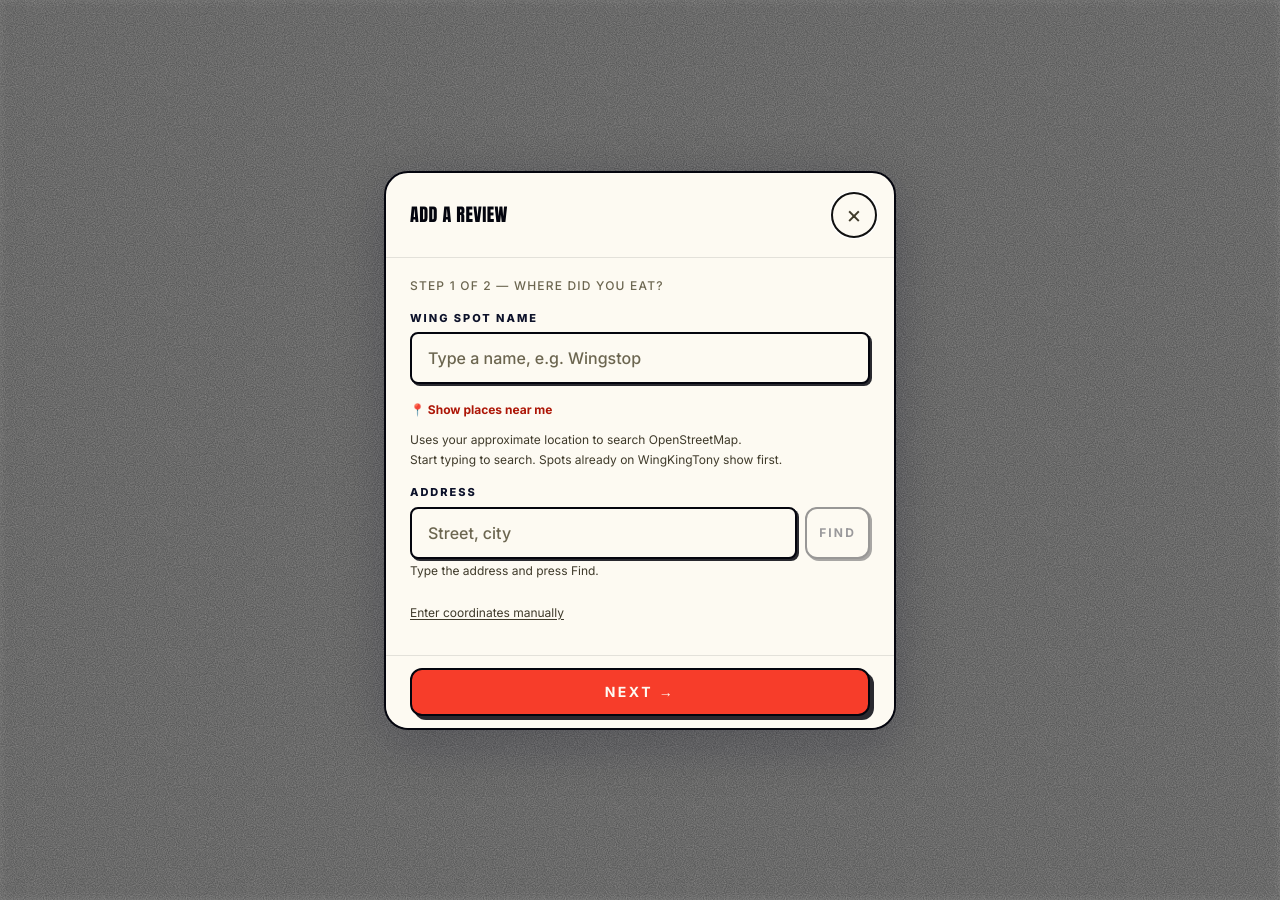
Test: ReviewFormModal — validation stays visible (m1) › clears old step-1 errors as soon as the user starts typing a spot name
Click the button "Next →" at (640, 692), box [410,668,870,716]
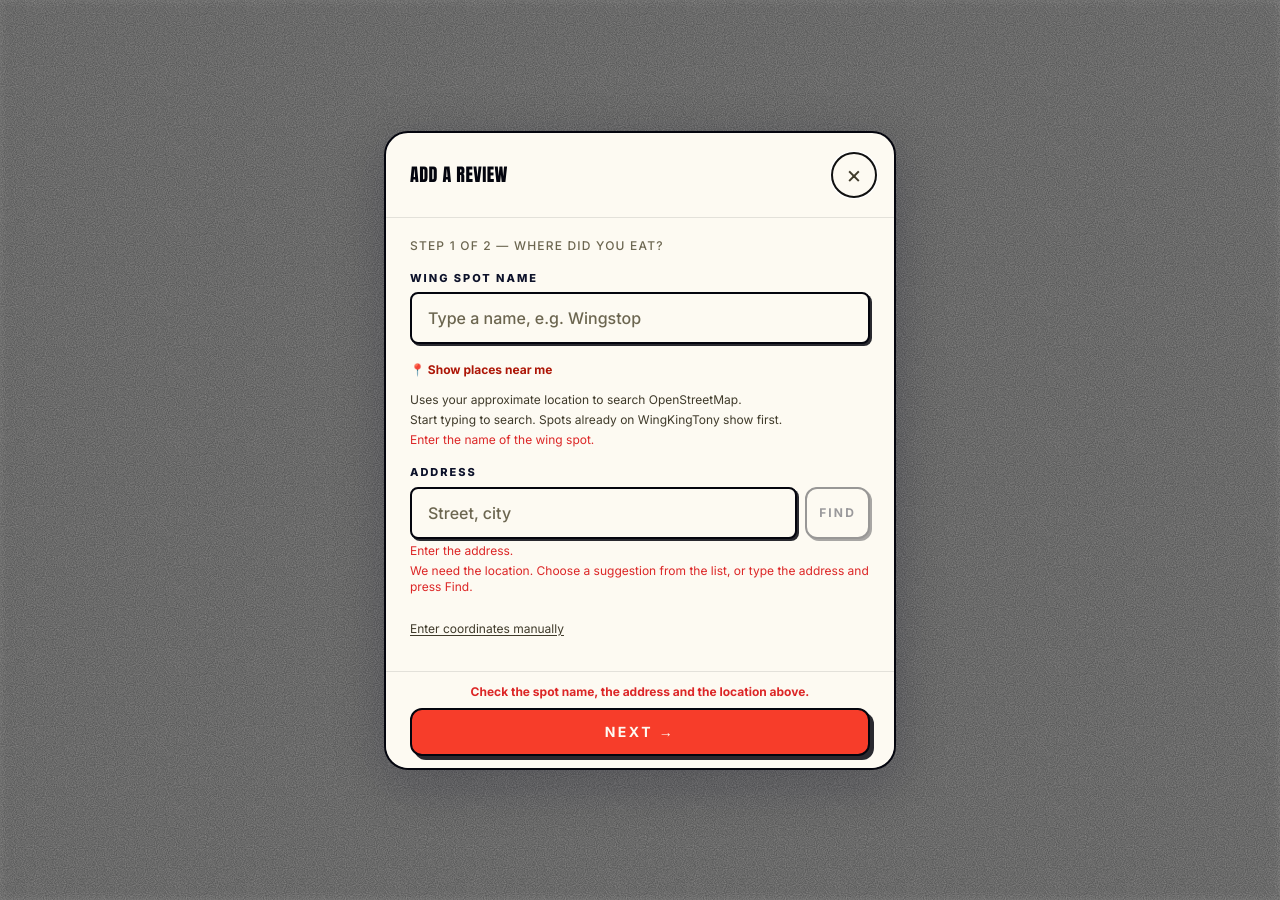
Expected: the text "Enter the address." is shown, [410,542,513,558]
Expected: the text "Check the spot name, the address and the location above." is shown, [471,684,809,698]
Type "Kong Poc" into the dropdown labelled "Wing spot name" at (640, 318), box [410,292,870,344]
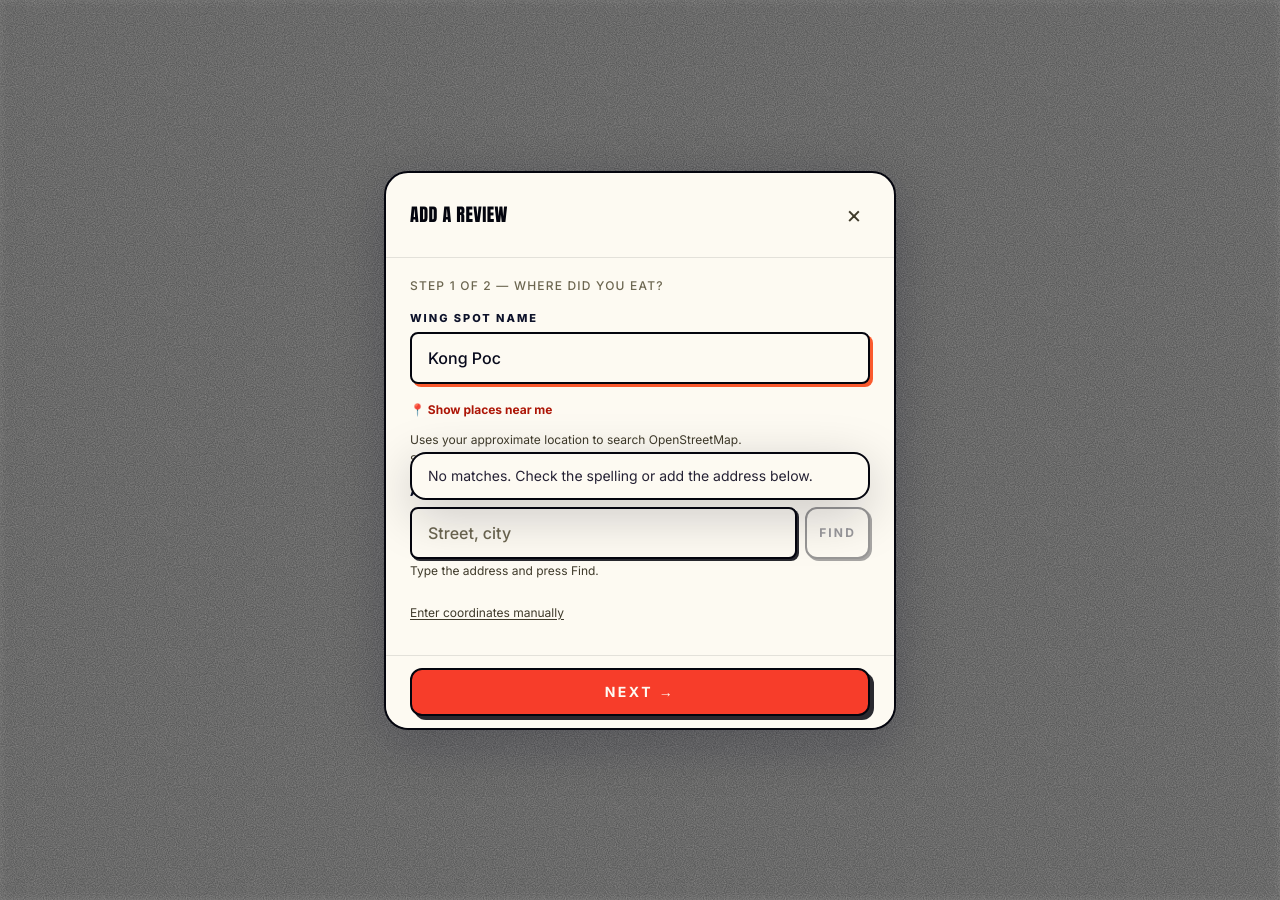
Expected: the text "Enter the address." is gone
Expected: the text "We need the location" is gone
Expected: the text "Enter the name of the wing spot." is gone
